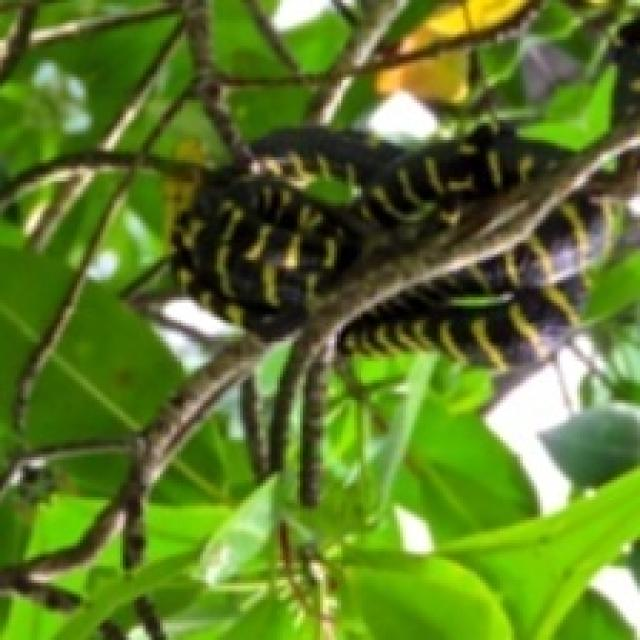mangrove cat snake: (176, 129, 556, 339), (340, 192, 608, 371)
